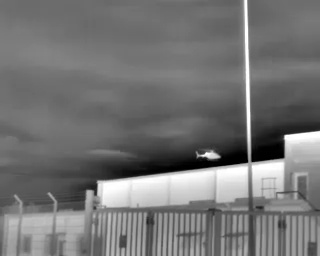HELICOPTER: (188, 143, 238, 165)
